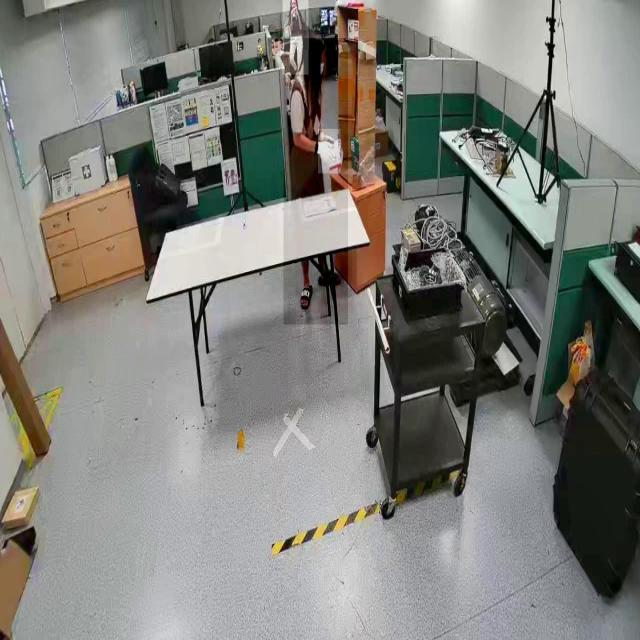hand_glove: (318, 129, 340, 173)
head_nohelmet: (303, 30, 325, 51)
person: (284, 38, 348, 326), (283, 0, 309, 76)
